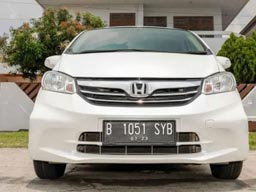plat: (102, 120, 174, 135)
